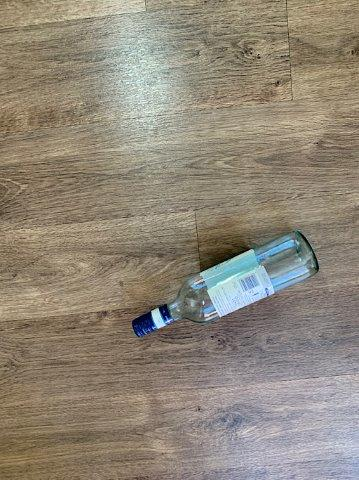botolkaca: (134, 232, 319, 337)
